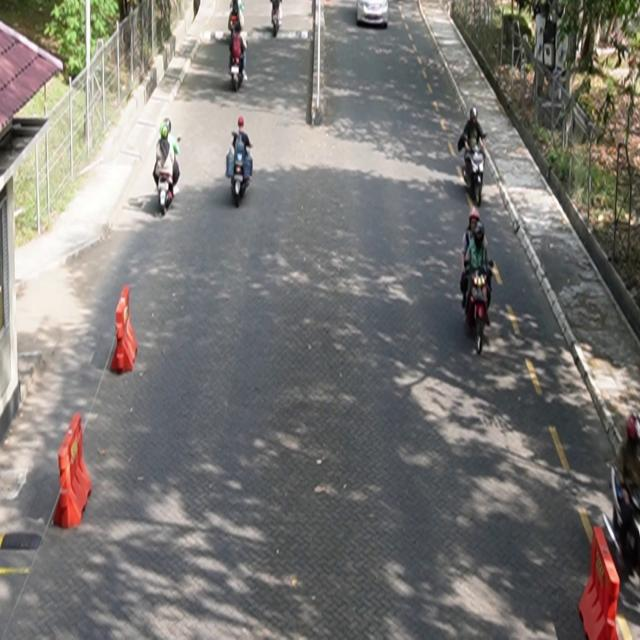car: (357, 1, 390, 29)
